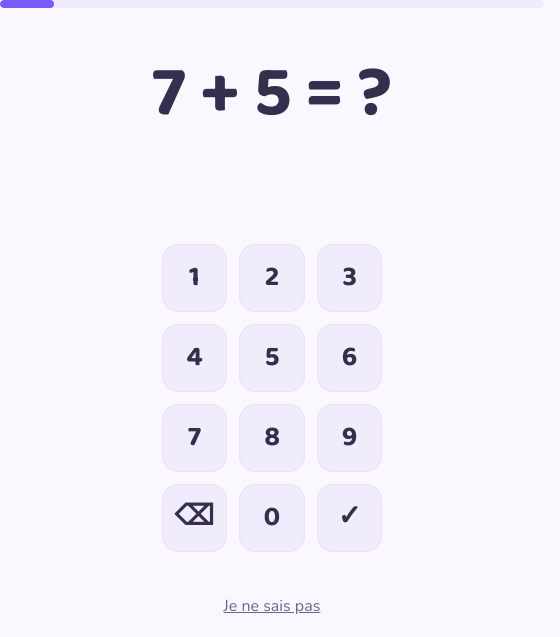
Scenario: QuestionCard — pavé, contraste du glyphe Valider désactivé (extension #104/#170/#226, rétro #250) › actif (chiffres saisis) : traitement accent plein (violet + texte inverse), toujours plein-alpha
Click the button "1".
click(194, 278)  # box x1=162 y1=244 x2=227 y2=312
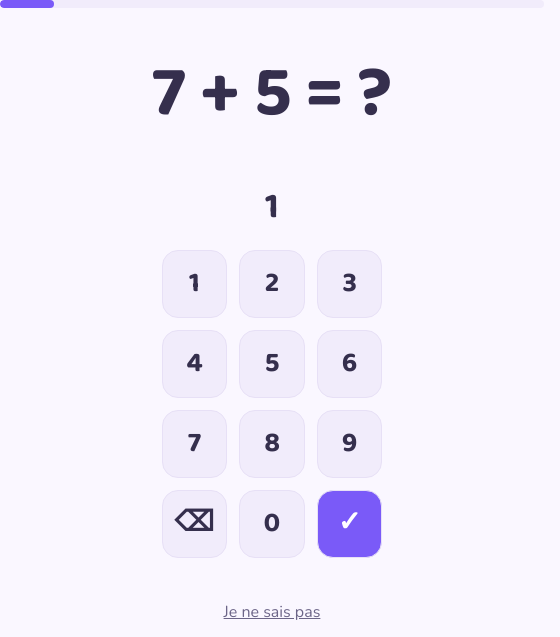
Expected: the button named "Valider" is enabled, x1=317 y1=490 x2=382 y2=558
